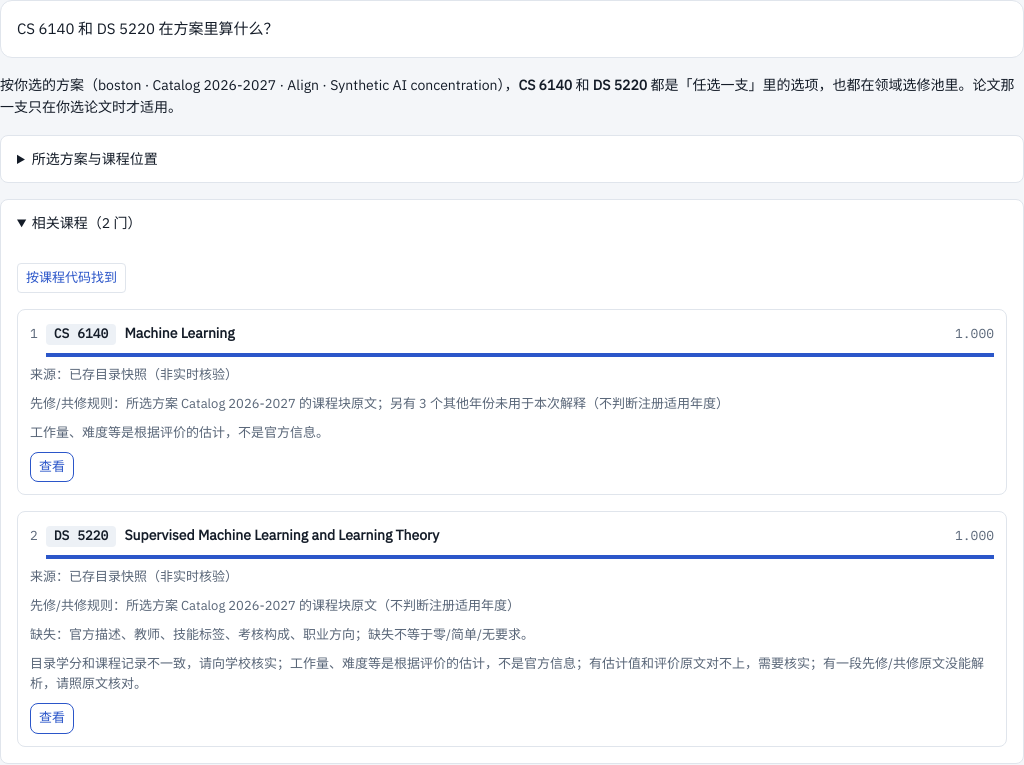
plan position says when the plan does not place a course and when places were left out, and its source opens in a new tab
Click the heading "所选方案与课程位置" at (95, 159), box x1=32 y1=150 x2=158 y2=168
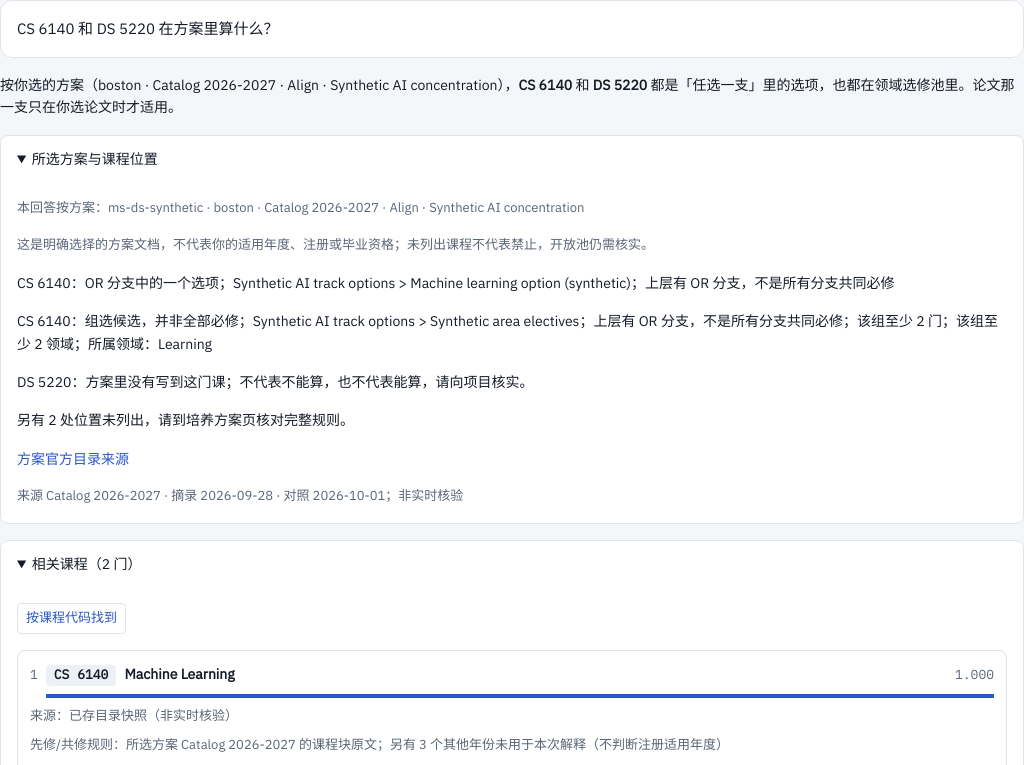
Expected: the text "DS 5220：方案里没有写到这门课；不代表不能算，也不代表能算，请向项目核实。" is shown, x1=17 y1=373 x2=533 y2=391
Expected: the text "另有 2 处位置未列出，请到培养方案页核对完整规则。" is shown, x1=17 y1=411 x2=354 y2=429
